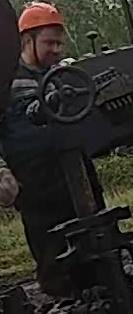helmet: (17, 1, 64, 33)
vest: (0, 64, 41, 170)
